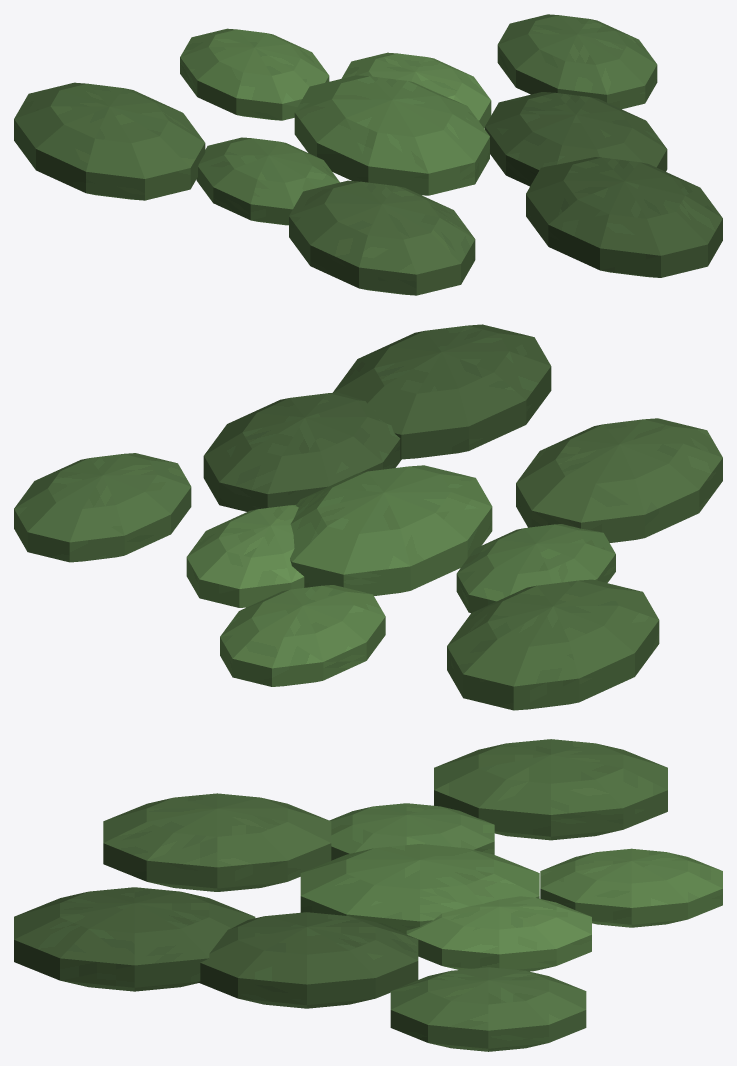
Rendered from seed_flower.glb.
3 renders of one model, top to bottom at view 1: azimuth 30°, elevation 25°; view 2: azimuth 150°, elevation 25°; view 3: azimuth 270°, elevation 25°, orthographic. The views are drawn at different scales.
Parts seen in each view (by area): view 1: block_grain 8, block_grain 0, block_grain 7, block_grain 5, block_grain 6, block_grain 3, block_grain 4, block_grain 2, block_grain 1; view 2: block_grain 7, block_grain 0, block_grain 8, block_grain 5, block_grain 3, block_grain 6, block_grain 4, block_grain 2, block_grain 1; view 3: block_grain 7, block_grain 8, block_grain 5, block_grain 3, block_grain 0, block_grain 6, block_grain 4, block_grain 1, block_grain 2.
Boxes of the visible parts, x1,y1,x2,y2 form: block_grain 8: [526, 157, 722, 277]; block_grain 0: [294, 75, 489, 195]; block_grain 7: [14, 82, 205, 200]; block_grain 5: [289, 180, 475, 295]; block_grain 6: [497, 14, 657, 109]; block_grain 3: [485, 92, 667, 186]; block_grain 4: [180, 28, 329, 120]; block_grain 2: [196, 137, 339, 225]; block_grain 1: [341, 52, 491, 128]; block_grain 7: [447, 579, 659, 710]; block_grain 0: [290, 465, 492, 595]; block_grain 8: [333, 324, 551, 459]; block_grain 5: [516, 418, 722, 542]; block_grain 3: [203, 392, 401, 511]; block_grain 6: [14, 453, 191, 562]; block_grain 4: [220, 585, 385, 686]; block_grain 2: [456, 524, 615, 612]; block_grain 1: [186, 505, 304, 607]; block_grain 7: [434, 739, 667, 840]; block_grain 8: [14, 887, 255, 991]; block_grain 5: [103, 793, 331, 891]; block_grain 3: [197, 912, 418, 1008]; block_grain 0: [300, 844, 539, 934]; block_grain 6: [390, 967, 586, 1051]; block_grain 4: [540, 848, 722, 927]; block_grain 1: [406, 896, 591, 971]; block_grain 2: [329, 803, 494, 860].
Size of the model in its own units: 0.0206 by 0.00248 by 0.022.
1 material, 1 textured.
